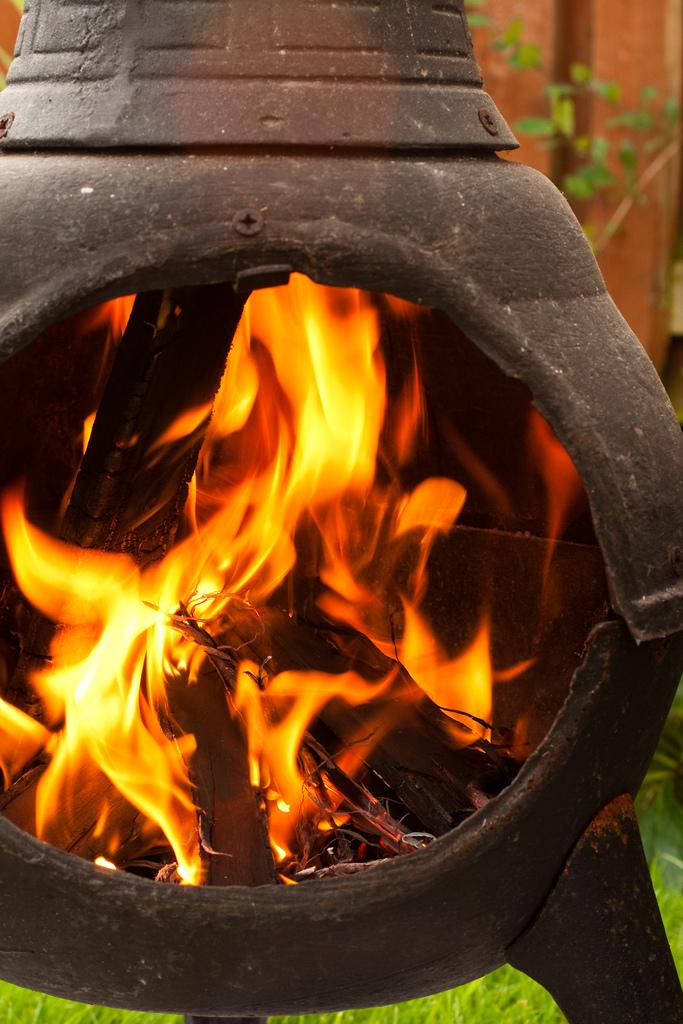fire: (15, 548, 212, 848), (210, 290, 395, 562), (262, 658, 502, 815)
